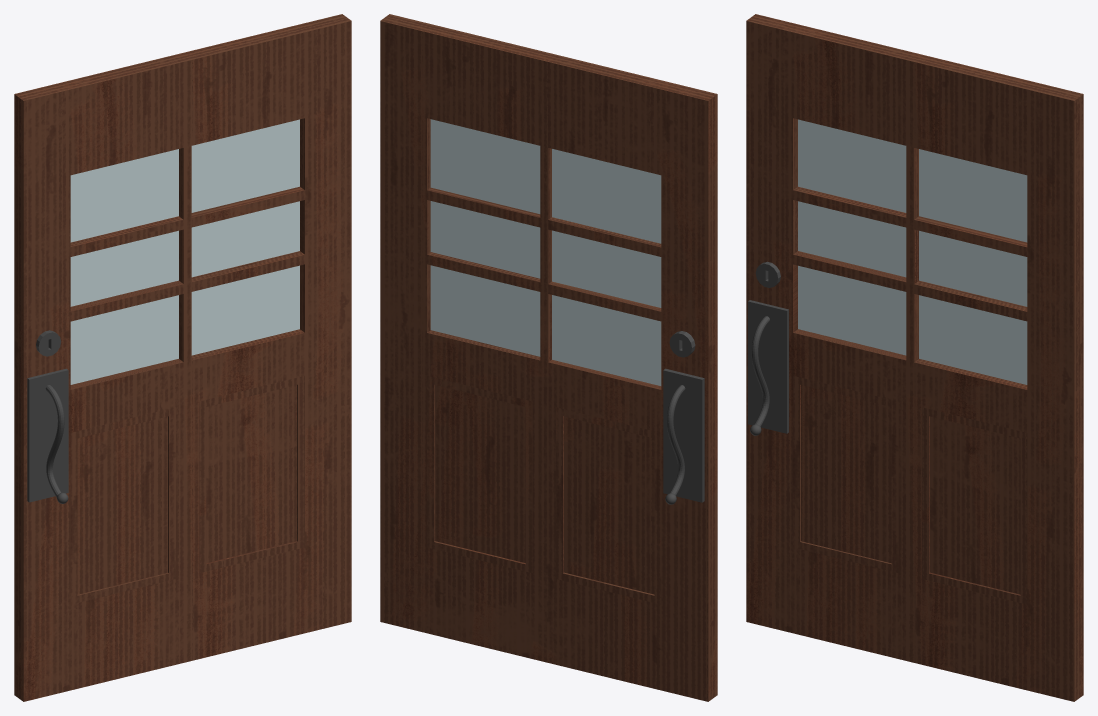
File: CabinBackDoorWithWindow.fbx
3 renders of one model, left to right at view 1: azimuth 30°, elevation 25°; view 2: azimuth 150°, elevation 25°; view 3: azimuth 330°, elevation 25°, orthographic.
Parts seen in each view (by area): view 1: HandleBack.001; view 2: HandleBack.001, KeyholeBack.006; view 3: HandleBack.001.
Part boxes in pixels (left/top/right/bottom): HandleBack.001: left=14, top=14, right=351, bottom=701; HandleBack.001: left=380, top=14, right=717, bottom=701; KeyholeBack.006: left=669, top=331, right=695, bottom=357; HandleBack.001: left=746, top=14, right=1083, bottom=701.
Size of the model in its own units: 800 by 1400 by 190.
